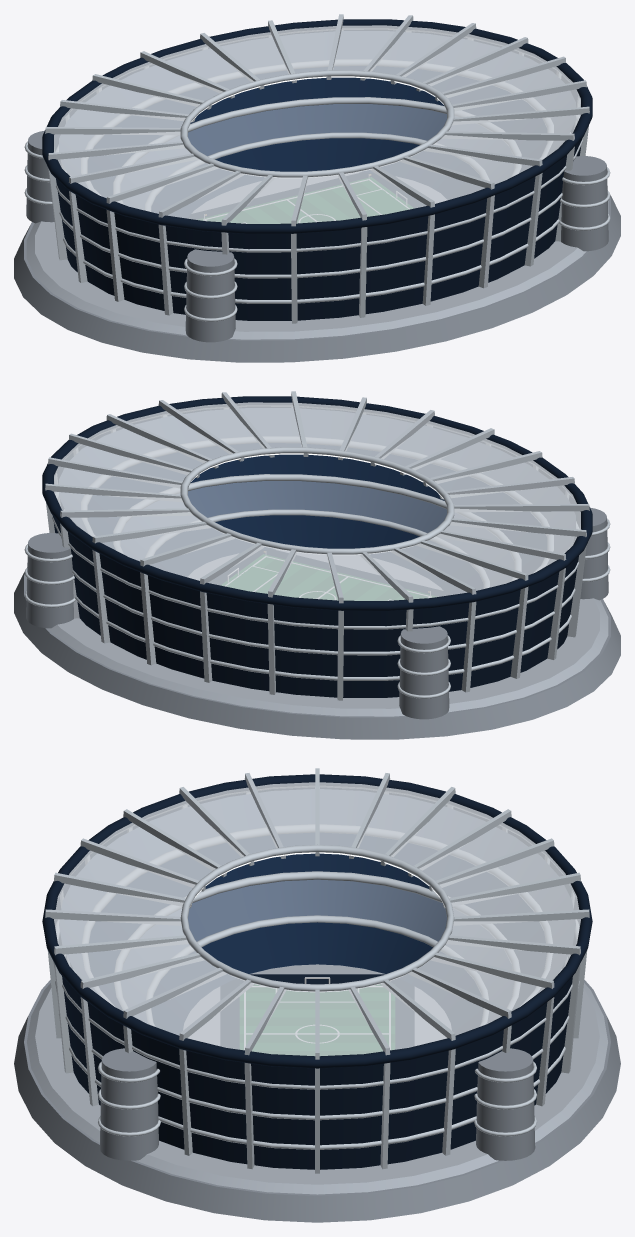
The model's file is arena_imperiale_stadium.glb.
3 renders of one model, top to bottom at view 1: azimuth 30°, elevation 25°; view 2: azimuth 150°, elevation 25°; view 3: azimuth 270°, elevation 25°, orthographic. The views are drawn at different scales.
Parts seen in each view (by area): view 1: GTEX_Arena_Imperiale_Stadium; view 2: GTEX_Arena_Imperiale_Stadium; view 3: GTEX_Arena_Imperiale_Stadium.
Part boxes in pixels (box(x1,y1,x2,y2)): GTEX_Arena_Imperiale_Stadium: box(14, 14, 620, 362); GTEX_Arena_Imperiale_Stadium: box(14, 391, 620, 739); GTEX_Arena_Imperiale_Stadium: box(14, 768, 620, 1222).
Size of the model in its own units: 11.41 by 2.56 by 9.2.
